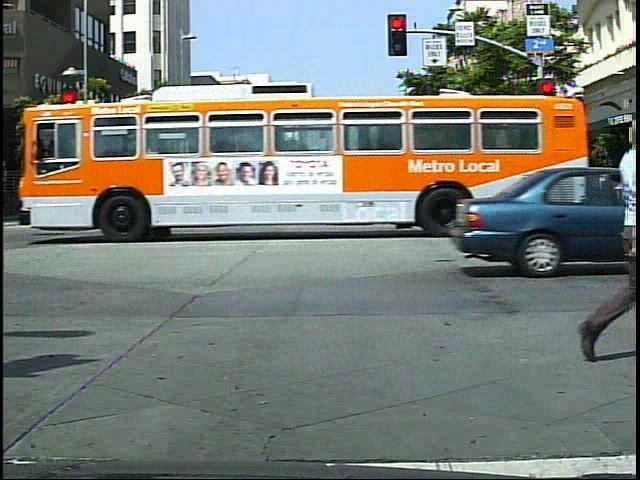person: (291, 165, 323, 229), (193, 167, 222, 233), (335, 166, 364, 230), (548, 160, 570, 211)
